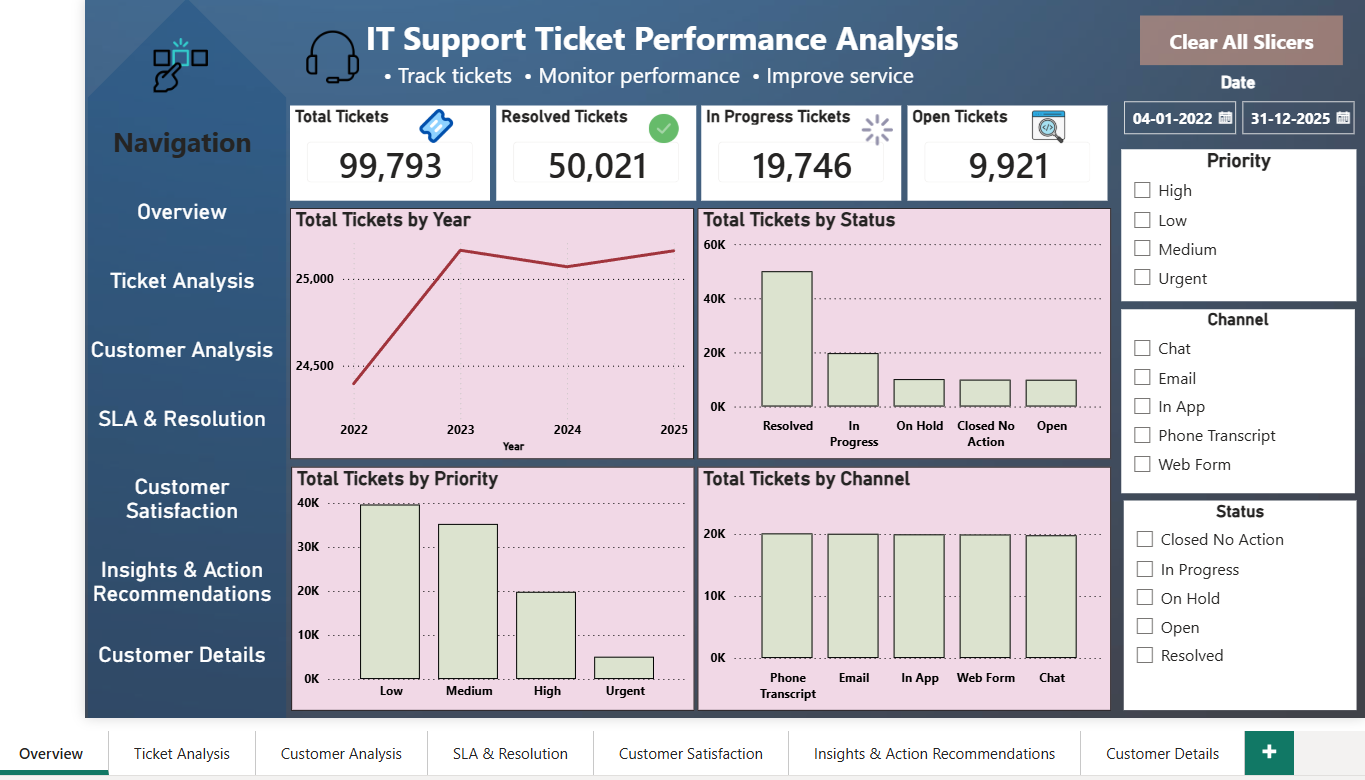

The dashboard page shown, as its layout file describes it:
{"tool":"powerbi","page":{"name":"Overview","canvas":[1280,720],"ordinal":0},"visuals":[{"type":"slicer","title":"Date","fields":{"Values":["Dim_Date.Date"]},"box":[1026.4,73.9,253.9,69.9],"z":0},{"type":"shape","box":[2.4,0,199.1,720.2],"z":1000},{"type":"cardVisual","title":"Total Tickets","fields":{"Data":["Fact_Tickets.Total_Tickets"]},"box":[204.7,107.5,200,95],"z":2000},{"type":"cardVisual","title":"Resolved Tickets","fields":{"Data":["Fact_Tickets.Resolved Tickets"]},"box":[410.6,107.5,200,95],"z":3000},{"type":"cardVisual","title":"Open Tickets","fields":{"Data":["Fact_Tickets.Open Tickets"]},"box":[822.5,107.5,200,95],"z":4000},{"type":"cardVisual","title":"In Progress Tickets","fields":{"Data":["Fact_Tickets.Pending Tickets"]},"box":[616.6,107.5,200,95],"z":5000},{"type":"clusteredColumnChart","title":"Total Tickets by Status","fields":{"Category":["Fact_Tickets.status"],"Y":["Fact_Tickets.Total Tickets"]},"box":[612.9,209.9,413.8,250.9],"z":6000},{"type":"lineChart","title":"Total Tickets by Year","fields":{"Category":["Dim_Date.Date Hierarchy.Year","Dim_Date.Date Hierarchy.Quarter","Dim_Date.Date Hierarchy.Month Name","Dim_Date.Date Hierarchy.Date"],"Y":["Fact_Tickets.Total Tickets"]},"box":[205.1,209.9,404.2,250.9],"z":7000},{"type":"clusteredColumnChart","title":"Total Tickets by Priority","fields":{"Y":["Fact_Tickets.Total Tickets"],"Category":["Fact_Tickets.priority"]},"box":[206.3,469.3,403,243.7],"z":8000},{"type":"clusteredColumnChart","title":"Total Tickets by Channel","fields":{"Category":["Fact_Tickets.channel"],"Y":["Fact_Tickets.Total Tickets"]},"box":[612.9,469.3,413.8,243.7],"z":9000},{"type":"textbox","box":[205,12.5,798.8,91.2],"z":10000},{"type":"image","box":[221.2,23.8,52.5,70],"z":11000},{"type":"slicer","title":"Channel","fields":{"Values":["Dim_Channel.channel"]},"box":[1036.3,310.9,233.8,184],"z":12000},{"type":"slicer","title":"Status","fields":{"Values":["Dim_Status.status"]},"box":[1038.7,503.1,232.8,209.9],"z":13000},{"type":"image","box":[331.2,108.8,40,38.8],"z":14000},{"type":"image","box":[558.8,112.5,40,36.2],"z":15000},{"type":"image","box":[768.8,116.2,47.5,31.2],"z":16000},{"type":"image","box":[930,111.2,67.5,35],"z":17000},{"type":"slicer","title":"Priority","fields":{"Values":["Fact_Tickets.priority"]},"box":[1036.3,150.8,235.3,152],"z":18000},{"type":"textbox","box":[0,119.4,194.2,56.7],"z":19000},{"type":"actionButton","title":"                Overview","box":[0,201.5,194.2,43.4],"z":20000},{"type":"actionButton","title":"Ticket Analysis","box":[0,270.2,194.2,43.4],"z":21000},{"type":"actionButton","title":"Customer Analysis","box":[0,339,194.2,43.4],"z":22000},{"type":"actionButton","title":"SLA & Resolution ","box":[0,407.8,194.2,43.4],"z":23000},{"type":"actionButton","title":"Customer Satisfaction","box":[0,476.5,194.2,56.7],"z":24000},{"type":"actionButton","title":"Insights & Action Recommendations","box":[0,558.6,194.2,60.3],"z":25000},{"type":"image","box":[64.2,39.8,63.9,54.3],"z":26000},{"type":"actionButton","title":"Customer Details","box":[0,644.2,194.2,43.4],"z":27000},{"type":"actionButton","box":[1054.6,17.5,202.9,49.7],"z":28000}]}

Visuals, with their boxes in screenshot pixels (x1, y1, x2, y2), scaled from the page's 1280x720 canvas onto the 1365x780 screenshot:
"Date" slicer: select_region(1095, 80, 1364, 156)
shape: select_region(3, 0, 215, 779)
"Total Tickets" cardVisual: select_region(218, 116, 432, 219)
"Resolved Tickets" cardVisual: select_region(438, 116, 651, 219)
"Open Tickets" cardVisual: select_region(877, 116, 1090, 219)
"In Progress Tickets" cardVisual: select_region(658, 116, 871, 219)
"Total Tickets by Status" clusteredColumnChart: select_region(654, 227, 1095, 499)
"Total Tickets by Year" lineChart: select_region(219, 227, 650, 499)
"Total Tickets by Priority" clusteredColumnChart: select_region(220, 508, 650, 772)
"Total Tickets by Channel" clusteredColumnChart: select_region(654, 508, 1095, 772)
textbox: select_region(219, 14, 1070, 112)
image: select_region(236, 26, 292, 102)
"Channel" slicer: select_region(1105, 337, 1354, 536)
"Status" slicer: select_region(1108, 545, 1356, 772)
image: select_region(353, 118, 396, 160)
image: select_region(596, 122, 639, 161)
image: select_region(820, 126, 871, 160)
image: select_region(992, 120, 1064, 158)
"Priority" slicer: select_region(1105, 163, 1356, 328)
textbox: select_region(0, 129, 207, 191)
"                Overview" actionButton: select_region(0, 218, 207, 265)
"Ticket Analysis" actionButton: select_region(0, 293, 207, 340)
"Customer Analysis" actionButton: select_region(0, 367, 207, 414)
"SLA & Resolution " actionButton: select_region(0, 442, 207, 489)
"Customer Satisfaction" actionButton: select_region(0, 516, 207, 578)
"Insights & Action Recommendations" actionButton: select_region(0, 605, 207, 670)
image: select_region(68, 43, 137, 102)
"Customer Details" actionButton: select_region(0, 698, 207, 745)
actionButton: select_region(1125, 19, 1341, 73)
